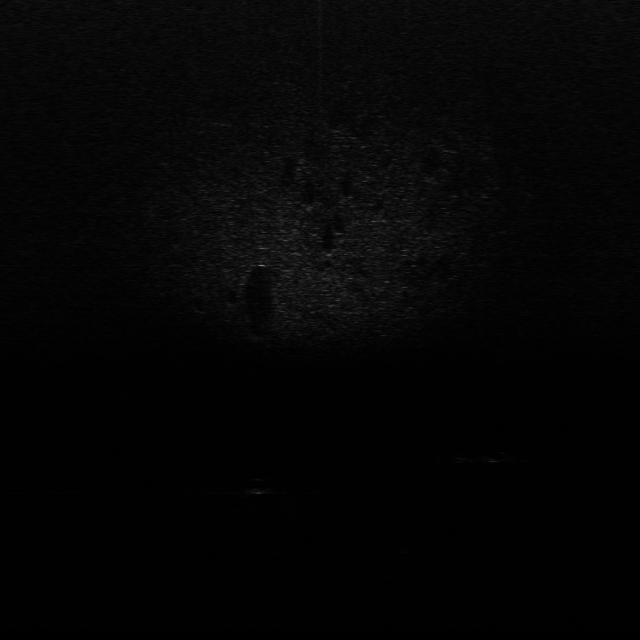ball: (241, 474, 278, 500)
human body: (444, 447, 532, 468)
